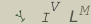I: (41, 12, 51, 23)
L: (69, 10, 80, 23)
M: (78, 5, 91, 16)
V: (49, 1, 61, 12)
Y: (15, 9, 26, 23)
